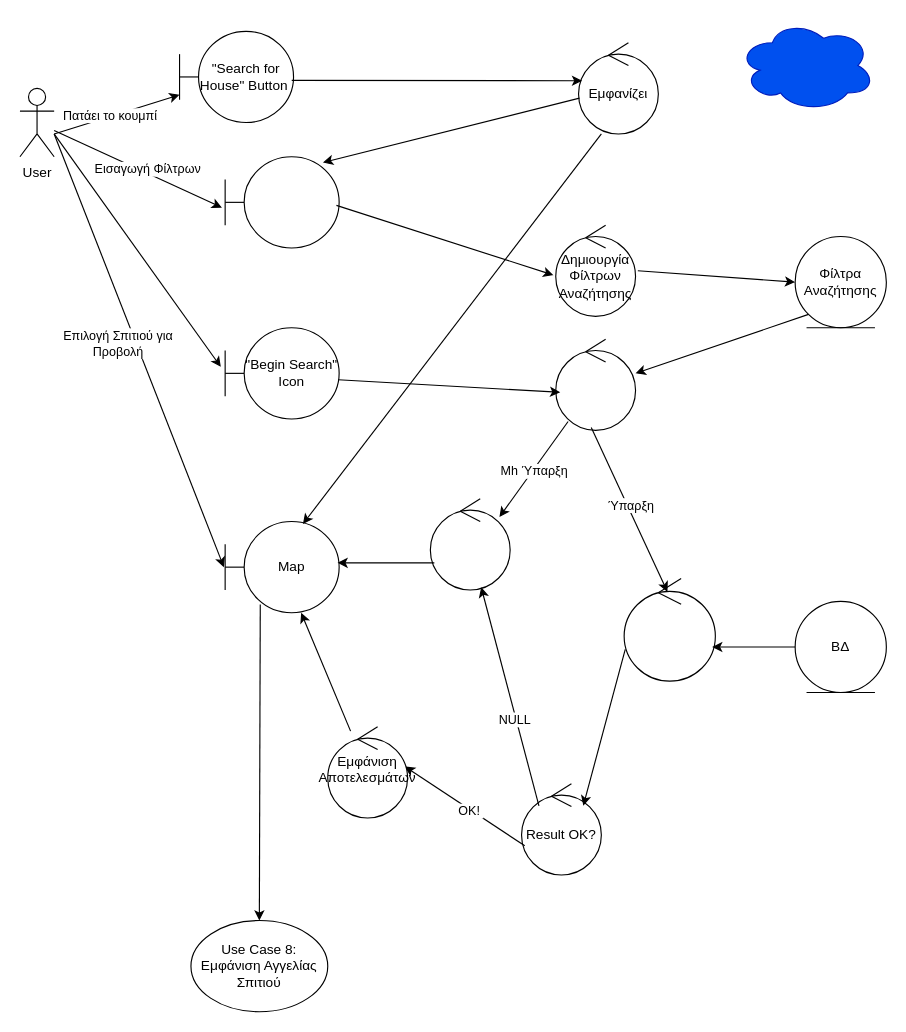
The diagram is 906 pixels wide and 1032 high, and some of its shapes have lost their labels. The centre of each missing label's shape, as x and y in pixels:
"Search For House" Page: point (281, 202)
Eφάνιση Προειδοποίησης: point (469, 544)
Use Case 7: point (806, 65)
Έλεγχος Ύπαρξης Φίλτρων: point (595, 384)
Αναζήτηση: point (669, 629)
